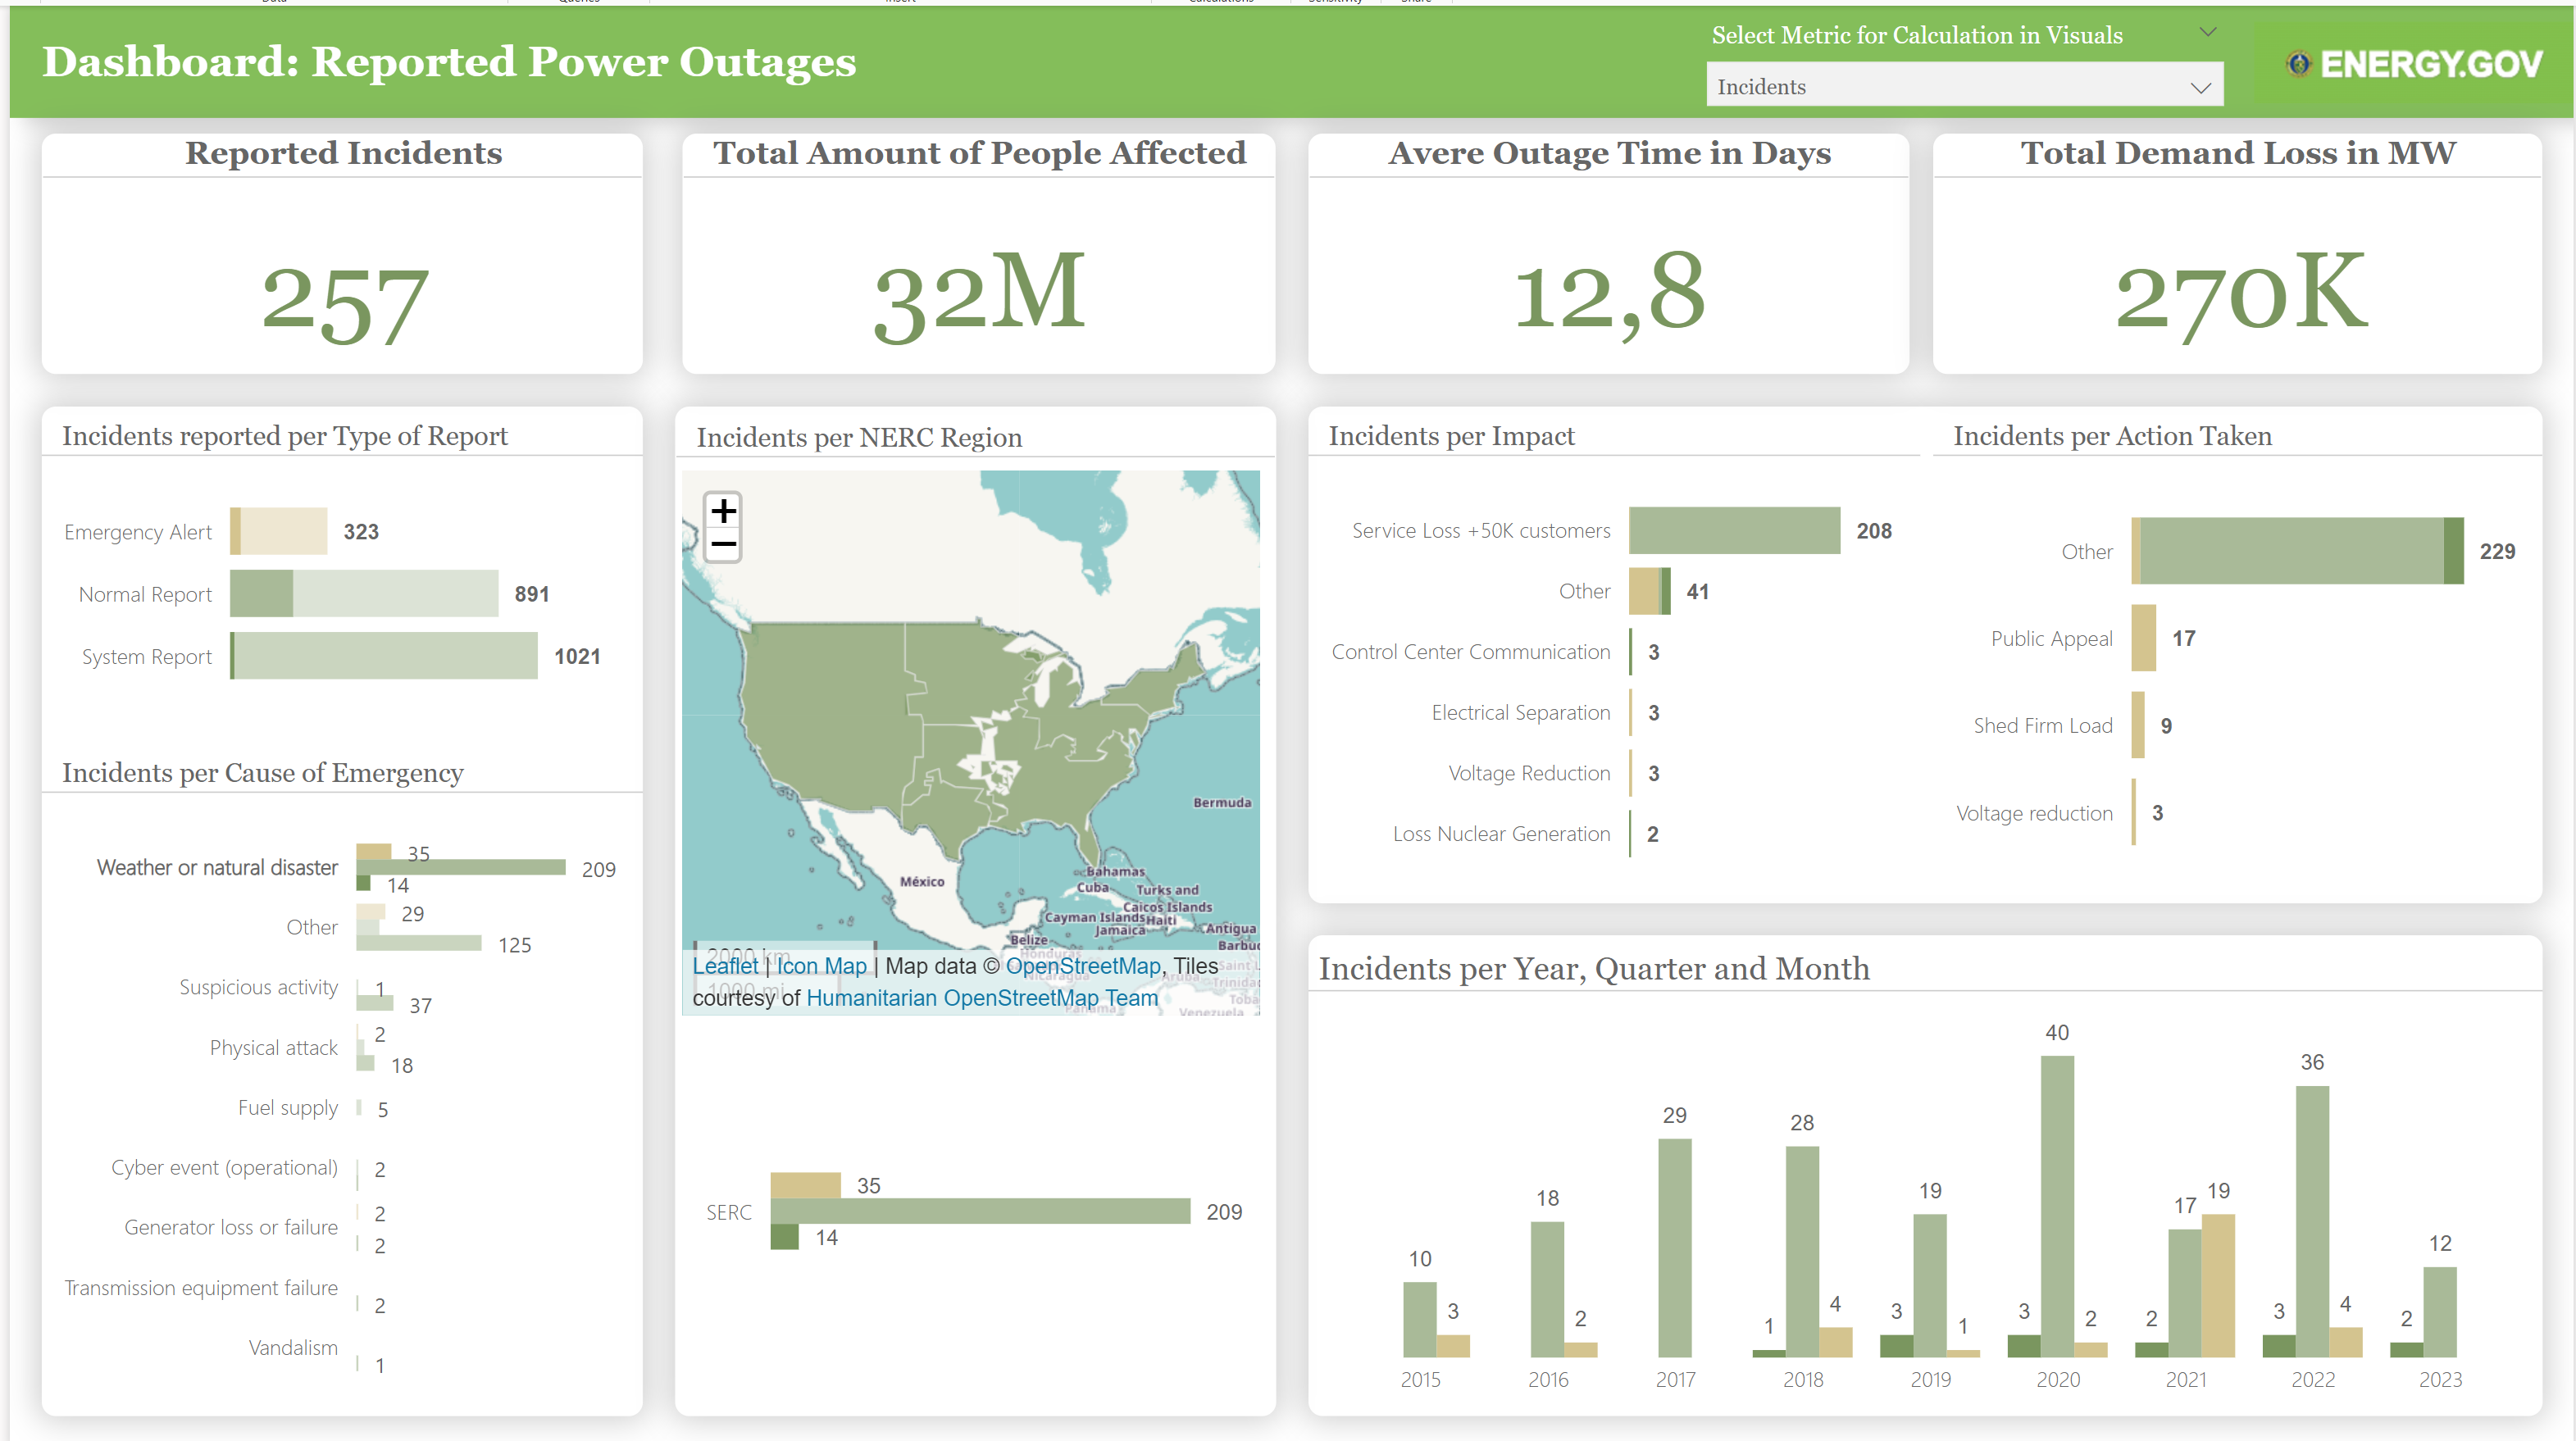

What the dashboard file says about the page in this screenshot:
{"tool":"powerbi","page":{"name":"Dashboard","canvas":[1280,720],"ordinal":0},"visuals":[{"type":"shape","box":[648,200,616,248],"z":0},{"type":"shape","box":[16,200,300,504],"z":1000},{"type":"shape","box":[0,0,1280,56],"z":2000},{"type":"shape","box":[648,464,616,240],"z":3000},{"type":"shape","box":[332.3,200,300,504],"z":4000},{"type":"clusteredBarChart","fields":{"Y":["Measurements.Incidents"],"Category":["Emergency Causes.Cause Short"],"Series":["Alert Criteria.Report Type"]},"box":[16,368,300,336],"z":5000},{"type":"barChart","fields":{"Y":["Measurements.Incidents"],"Series":["Alert Criteria.Report Type"],"Category":["Emergency Actions.Action Taken Short"]},"box":[960,200,304,248],"z":6000},{"type":"image","box":[1120,0,160,56],"z":7000},{"type":"clusteredBarChart","fields":{"Y":["Measurements.Incidents"],"Category":["NERC Regions.NERC"],"Series":["Alert Criteria.Report Type"]},"box":[336,496,296,208],"z":8000},{"type":"iconMapV34089C0EB522B416294AA926F71B4FDBB","fields":{"Size":["Measurements.Incidents"],"category":["NERC Regions.NERC"]},"box":[336,232,288,272],"z":9000},{"type":"card","title":"Reported Incidents","fields":{"Values":["Measurements.Incidents"]},"box":[16,64,300,120],"z":10000},{"type":"card","title":"Total Amount of People Affected","fields":{"Values":["Measurements.People Affected"]},"box":[336,64,296,120],"z":11000},{"type":"card","title":"Avere Outage Time in Days","fields":{"Values":["Measurements.Avg Outage Time (hours)"]},"box":[648,64,300,120],"z":12000},{"type":"card","title":"Total Demand Loss in MW","fields":{"Values":["Measurements.Demand Loss"]},"box":[960,64,304,120],"z":13000},{"type":"barChart","fields":{"Y":["Measurements.Incidents"],"Series":["Alert Criteria.Report Type"],"Category":["Emergency Impacts.Impact Short"]},"box":[648,200,305,248],"z":14000},{"type":"barChart","fields":{"Y":["Measurements.Incidents"],"Category":["Alert Criteria.Report Type"],"Series":["Alert Criteria.Report Type"]},"box":[16,200,300,160],"z":15000},{"type":"slicer","fields":{"Values":["Calculation Method.Calculation Method"]},"box":[832,0,288,56],"z":16000},{"type":"clusteredColumnChart","fields":{"Y":["Measurements.Incidents"],"Category":["Calendar.Year","Calendar.Quarter Name","Calendar.Month Name"],"Series":["Alert Criteria.Report Type"]},"box":[648,464,616,240],"z":17000},{"type":"textbox","box":[16,16,424,40],"z":18000}]}

Visuals, with their boxes in screenshot pixels (x1, y1, x2, y2), scaled from the page's 1280x720 canvas onto the 2576x1441 screenshot:
shape: bbox=(1304, 400, 2544, 897)
shape: bbox=(32, 400, 636, 1409)
shape: bbox=(0, 0, 2575, 112)
shape: bbox=(1304, 929, 2544, 1409)
shape: bbox=(669, 400, 1272, 1409)
clusteredBarChart - Measurements.Incidents x Emergency Causes.Cause Short: bbox=(32, 737, 636, 1409)
barChart - Measurements.Incidents x Alert Criteria.Report Type: bbox=(1932, 400, 2544, 897)
image: bbox=(2254, 0, 2575, 112)
clusteredBarChart - Measurements.Incidents x NERC Regions.NERC: bbox=(676, 993, 1272, 1409)
iconMapV34089C0EB522B416294AA926F71B4FDBB - Measurements.Incidents x NERC Regions.NERC: bbox=(676, 464, 1256, 1009)
"Reported Incidents" card: bbox=(32, 128, 636, 368)
"Total Amount of People Affected" card: bbox=(676, 128, 1272, 368)
"Avere Outage Time in Days" card: bbox=(1304, 128, 1908, 368)
"Total Demand Loss in MW" card: bbox=(1932, 128, 2544, 368)
barChart - Measurements.Incidents x Alert Criteria.Report Type: bbox=(1304, 400, 1918, 897)
barChart - Measurements.Incidents x Alert Criteria.Report Type: bbox=(32, 400, 636, 720)
slicer - Calculation Method.Calculation Method: bbox=(1674, 0, 2254, 112)
clusteredColumnChart - Measurements.Incidents x Calendar.Year: bbox=(1304, 929, 2544, 1409)
textbox: bbox=(32, 32, 885, 112)
